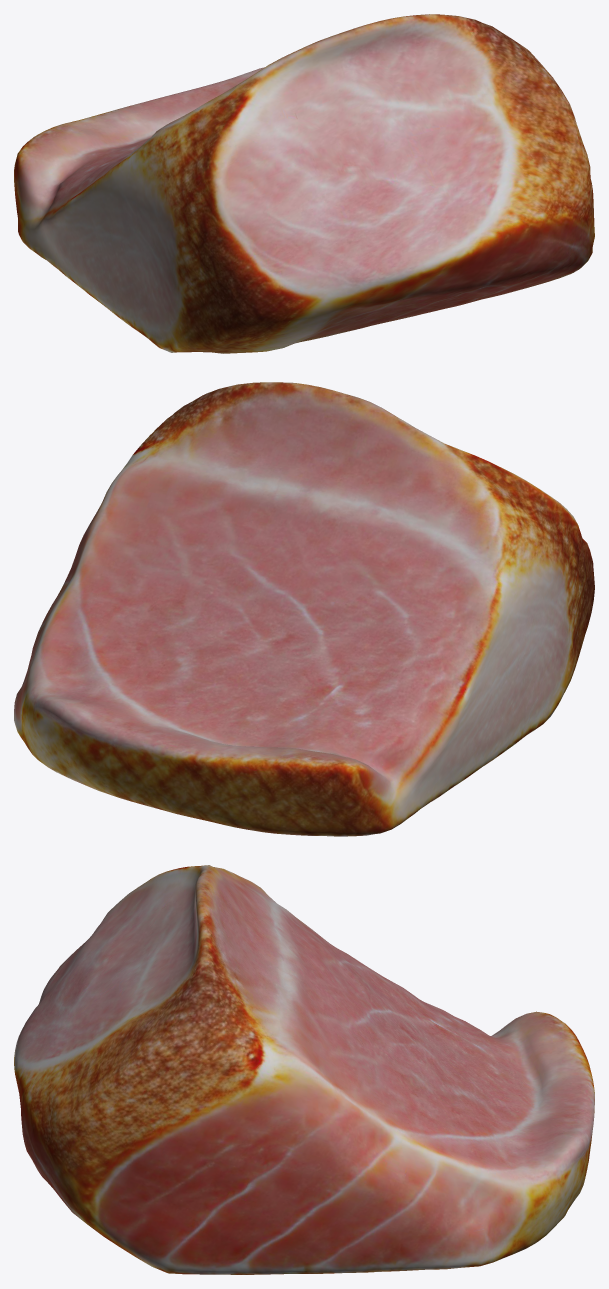
The model's file is Jambon.fbx.
3 renders of one model, top to bottom at view 1: azimuth 30°, elevation 25°; view 2: azimuth 150°, elevation 25°; view 3: azimuth 270°, elevation 25°, orthographic. The views are drawn at different scales.
Visible parts, largest first — view 1: mesh; view 2: mesh; view 3: mesh.
Part boxes in pixels (x1,y1,x2,y2): mesh: (14,14,594,353); mesh: (14,382,594,836); mesh: (14,865,594,1274).
Bounding box in the file's own units: 83.17 × 55.07 × 99.87.
